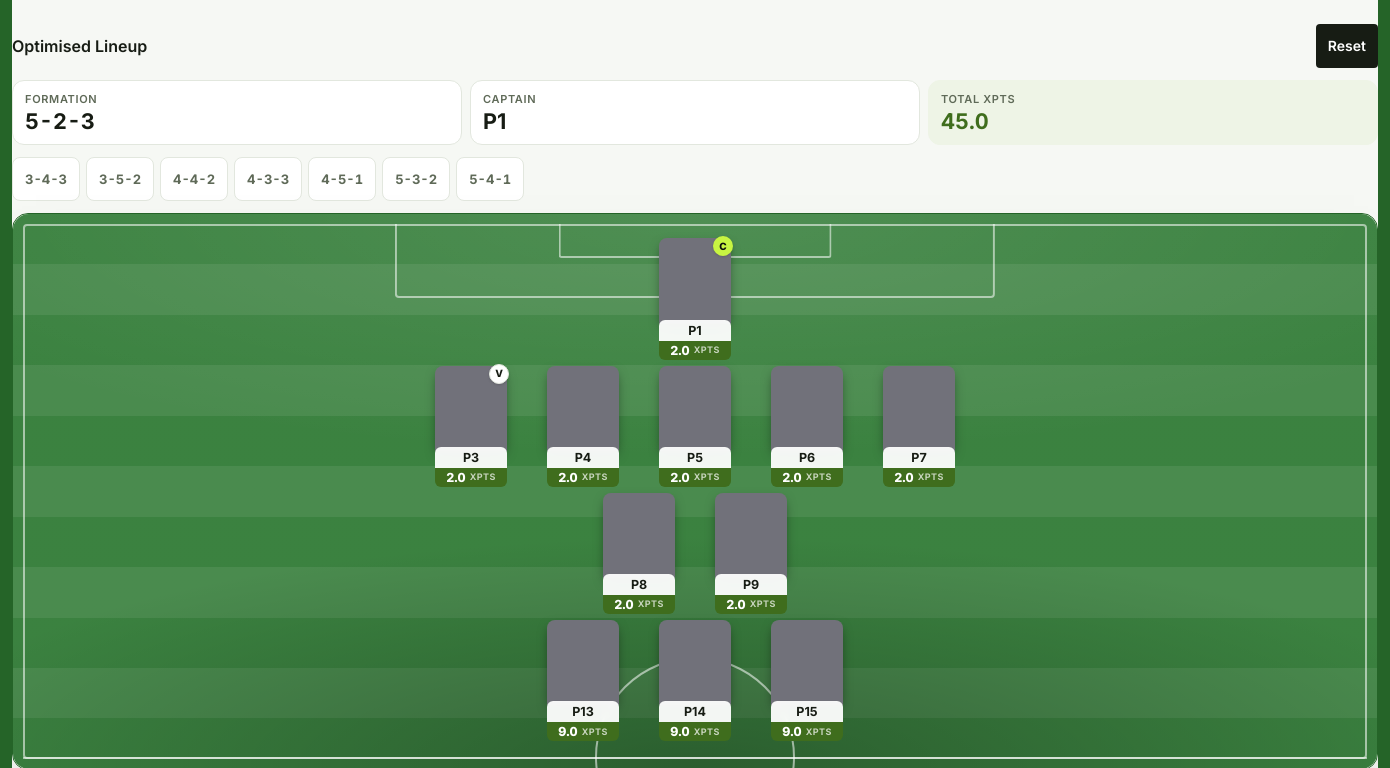
it: Phase 72: LineupTab › PITCH-01: pitch surface, bench tray and formation switcher › shows the cost of a forced shape against the optimiser choice
What coordinates should you click on to do the following:
click the radio button with test id "formation-5-4-1"
I would click on:
 (490, 180)
Its box is [456,158,524,202].
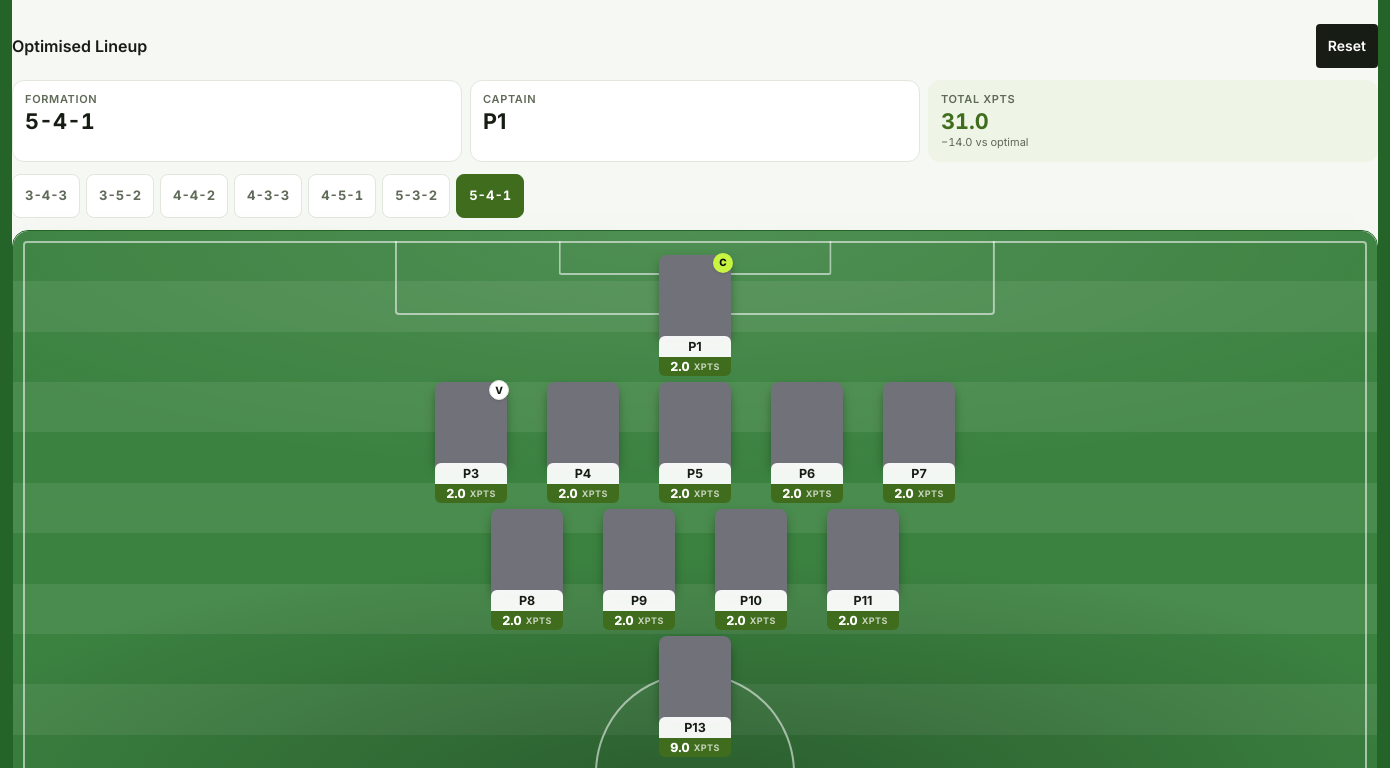
Expected: the element with test id "lineup-headline-row" shows "vs optimal", [972,136,1028,150]
Expected: the element with test id "lineup-headline-row" shows "14.0", [948,136,972,150]
